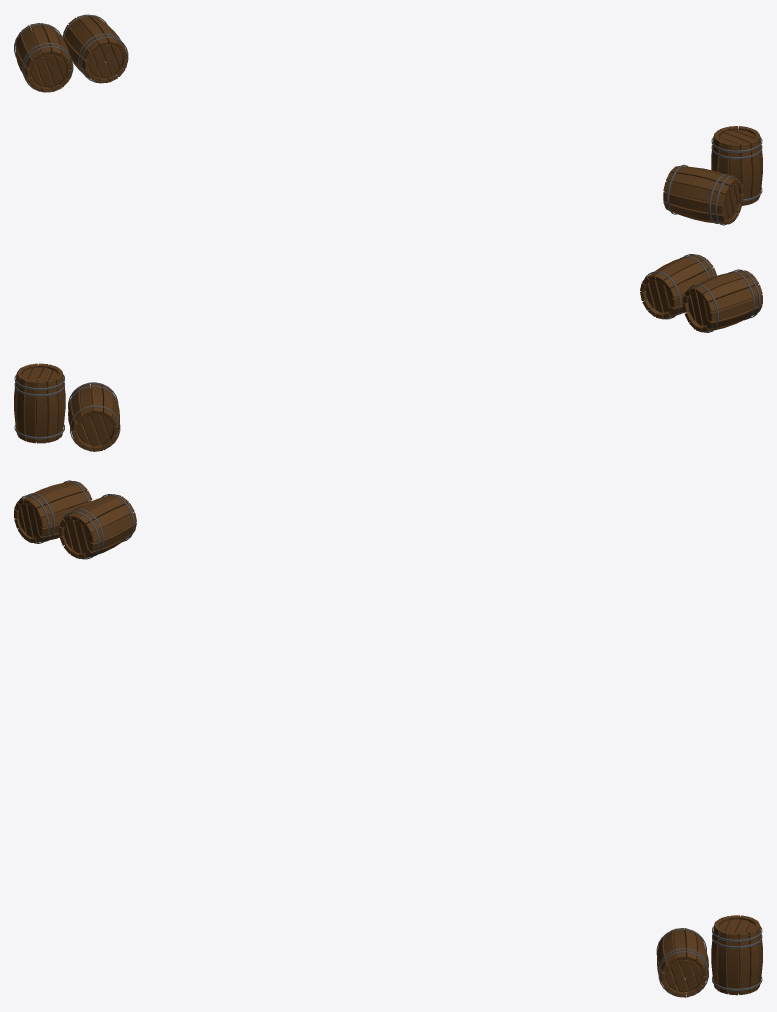
Rendered from BarrelsBasic 1.fbx.
3 views of the same model, one above another, from view 1: azimuth 30°, elevation 25°; view 2: azimuth 150°, elevation 25°; view 3: azimuth 330°, elevation 25° (orthographic).
Parts seen in each view (by area): view 1: Barrel5, Barrel6, Barrel7, Barrel; view 2: Barrel, Barrel7, Barrel5, Barrel6; view 3: Barrel, Barrel6, Barrel5, Barrel7.
Part boxes in pixels (x1,y1,x2,y2): Barrel5: (663,164,743,225); Barrel6: (62,14,128,83); Barrel7: (14,23,73,92); Barrel: (711,126,762,205); Barrel: (14,363,65,443); Barrel7: (682,269,762,332); Barrel5: (68,382,120,451); Barrel6: (640,254,717,319); Barrel: (711,915,762,995); Barrel6: (59,494,136,559); Barrel5: (656,928,708,997); Barrel7: (14,480,92,543).
Bounding box in the file's own units: 51.26 × 21.91 × 6.51.
